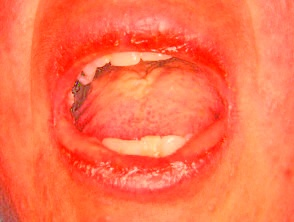SJS-TEN: (39, 11, 234, 94), (52, 129, 235, 187)
